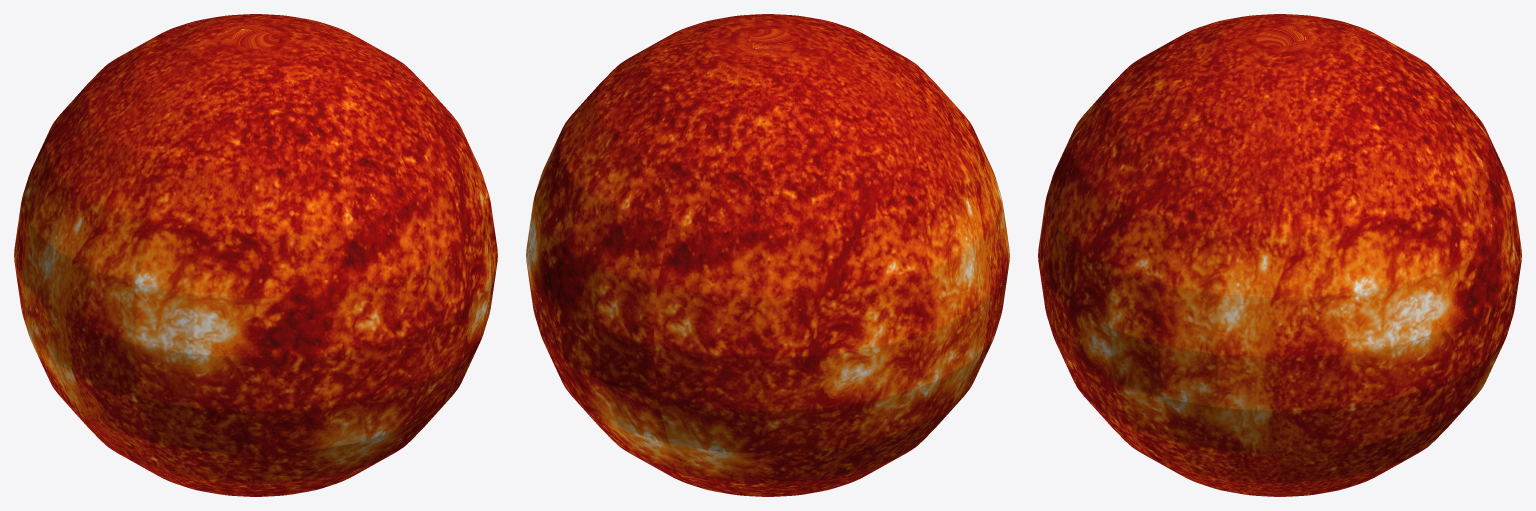
File: Sol.obj
3 views of the same model, side by side, from view 1: azimuth 30°, elevation 25°; view 2: azimuth 150°, elevation 25°; view 3: azimuth 270°, elevation 25° (orthographic).
Visible parts, largest first — view 1: Tierra2:Mesh group1; view 2: Tierra2:Mesh group1; view 3: Tierra2:Mesh group1.
Boxes of the visible parts, left/top/right/bottom form: Tierra2:Mesh group1: left=14, top=14, right=497, bottom=496; Tierra2:Mesh group1: left=526, top=14, right=1009, bottom=496; Tierra2:Mesh group1: left=1038, top=14, right=1521, bottom=496.
Size of the model in its own units: 4.72 by 4.67 by 4.72.
Materials: 1 (1 with a texture image).
